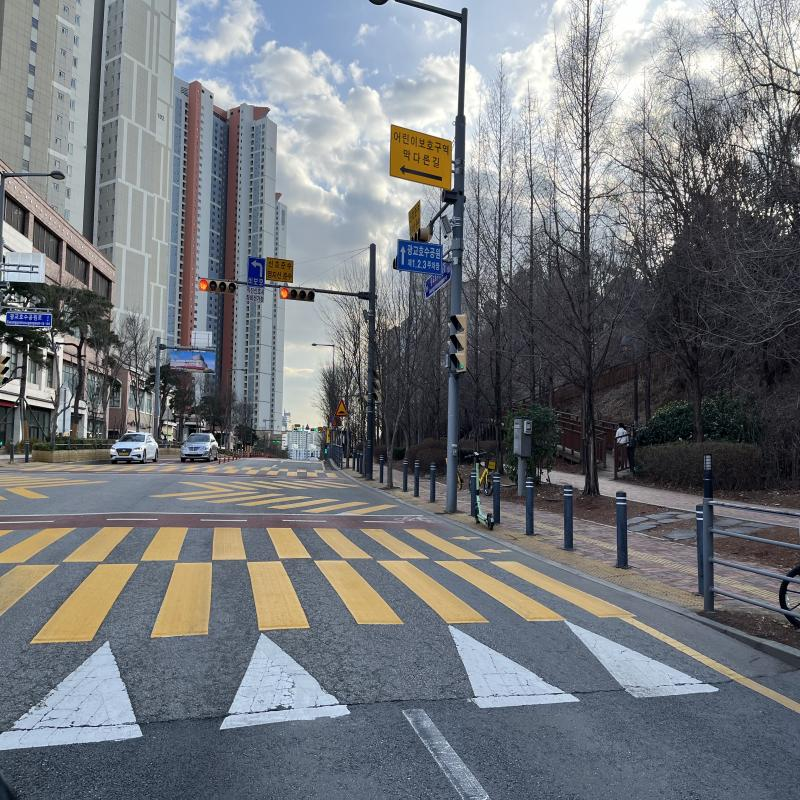red: (280, 288, 290, 299), (199, 279, 208, 291)
